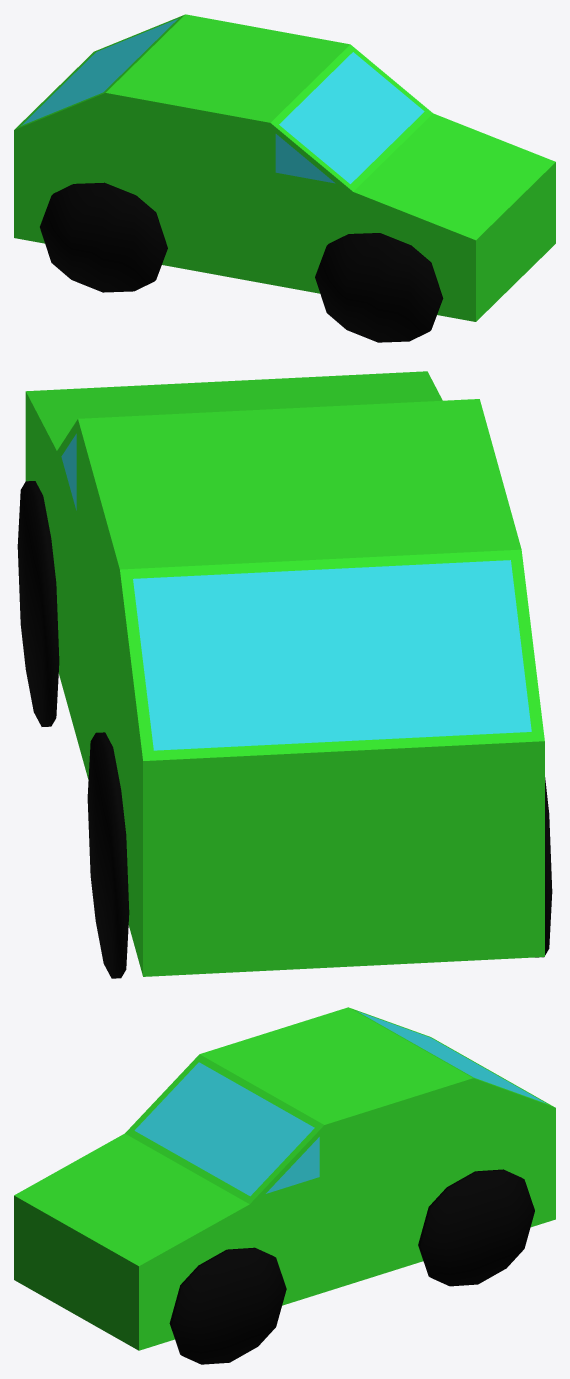
The model's file is Coche.fbx.
3 views of the same model, one above another, from view 1: azimuth 30°, elevation 25°; view 2: azimuth 150°, elevation 25°; view 3: azimuth 270°, elevation 25° (orthographic). The views are drawn at different scales.
Visible parts, largest first — view 1: Coche.002; view 2: Coche.002; view 3: Coche.002.
Part boxes in pixels (left/top/right/bottom): Coche.002: left=14, top=14, right=555, bottom=342; Coche.002: left=17, top=371, right=552, bottom=978; Coche.002: left=14, top=1007, right=555, bottom=1364.
Size of the model in its own units: 0.4024 by 0.1888 by 0.4558.
